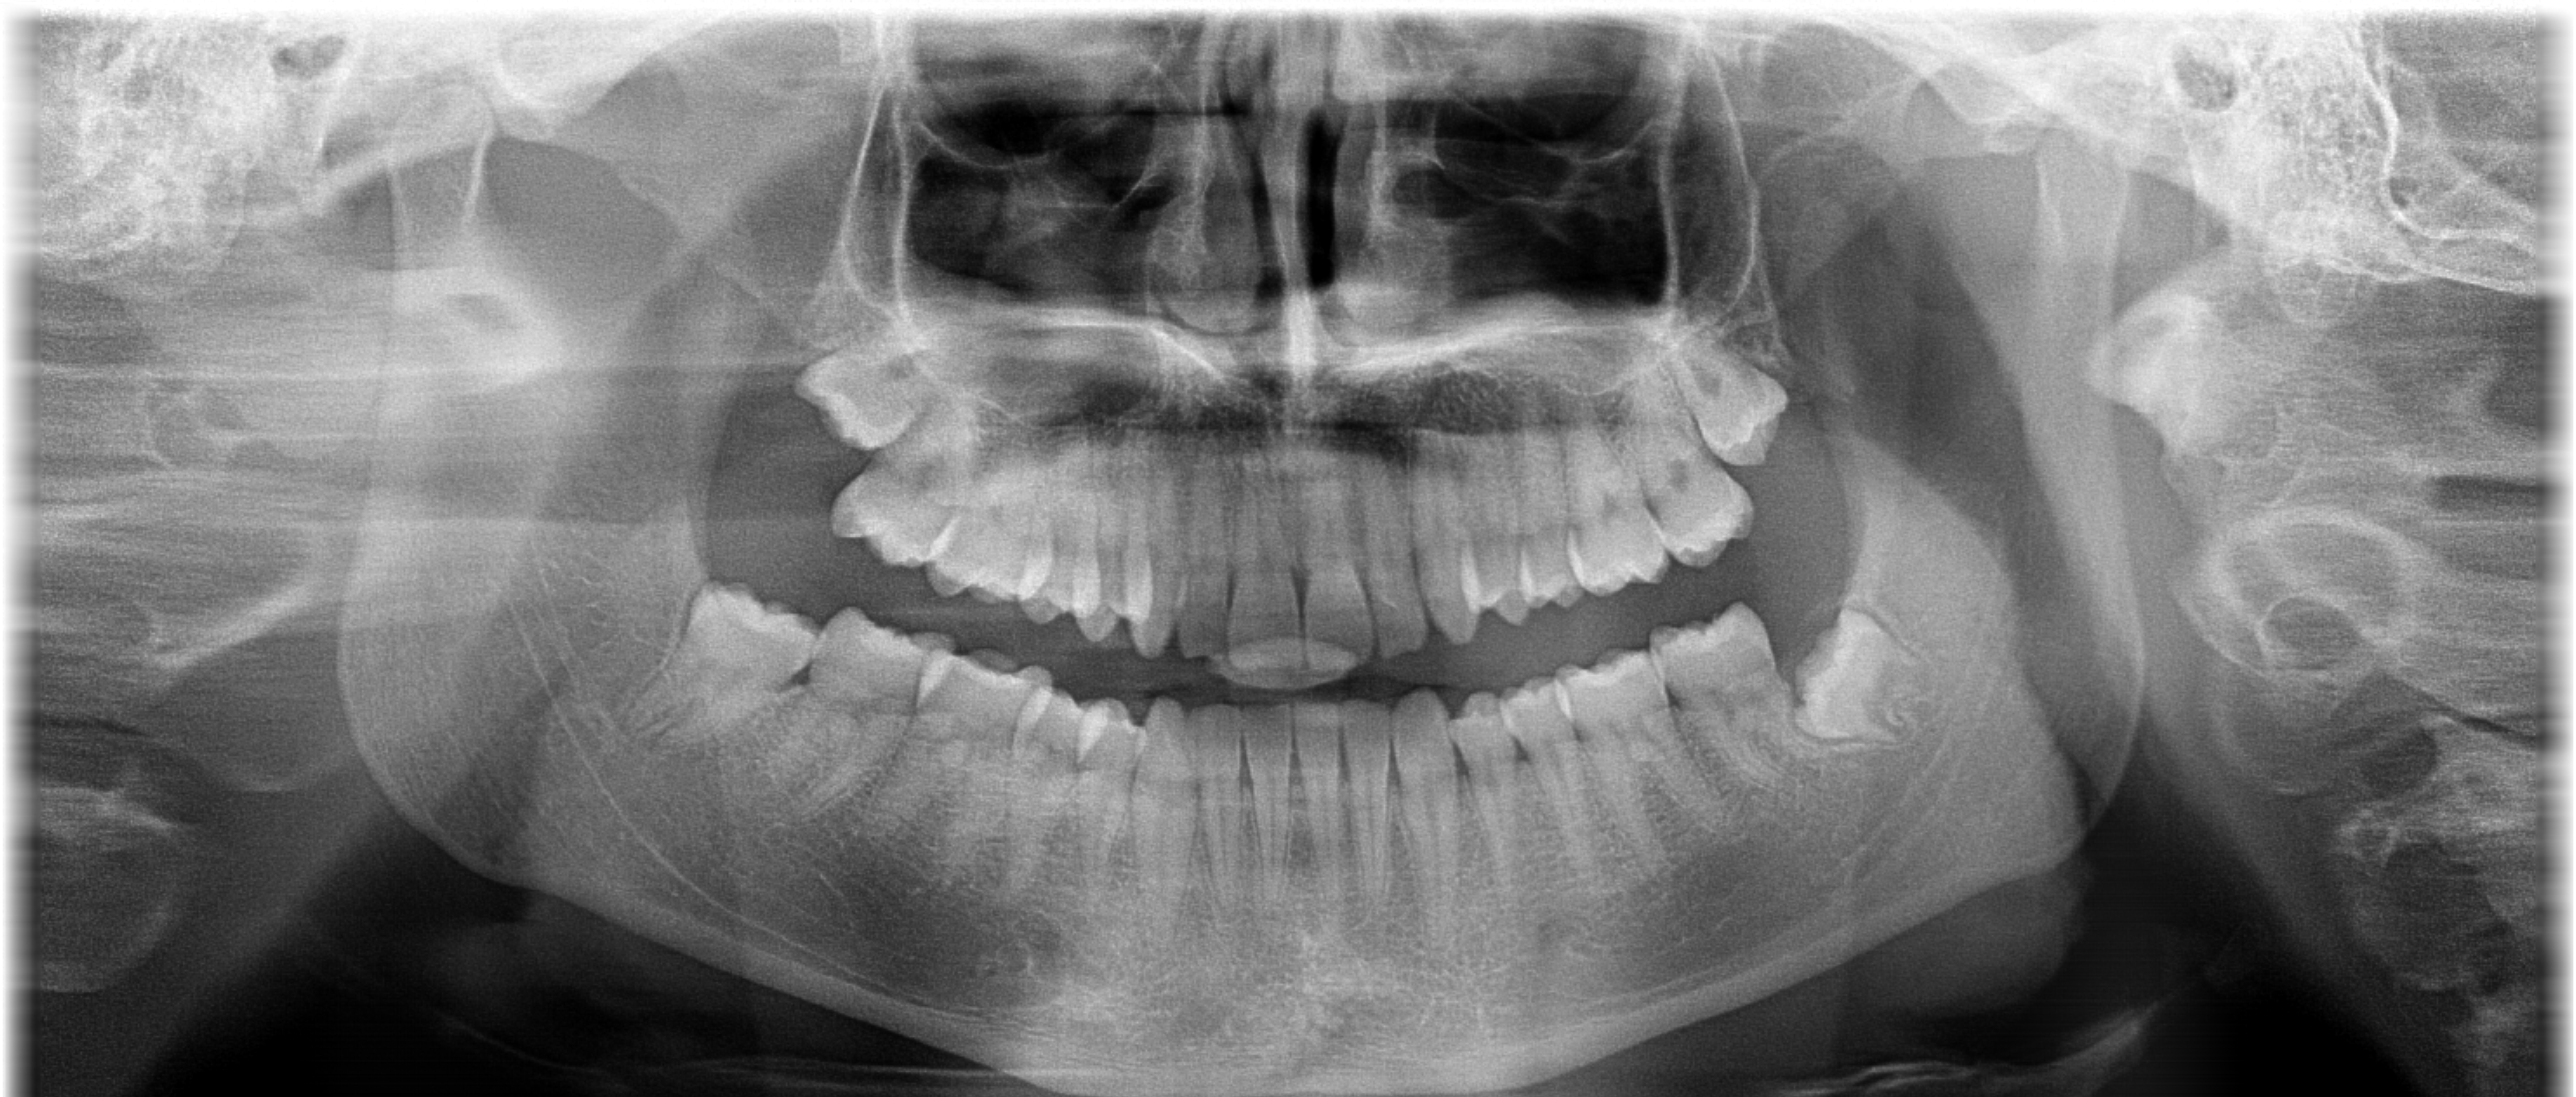cordal: (608, 568, 828, 770), (779, 296, 973, 470), (1758, 590, 1950, 764), (1620, 305, 1814, 478)
